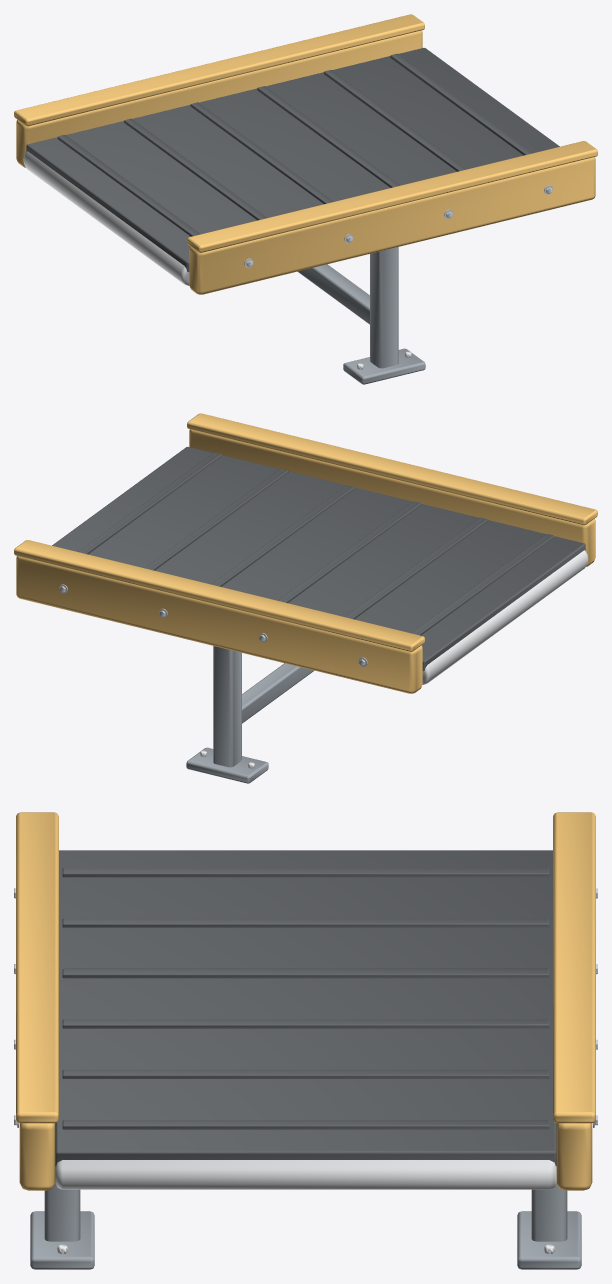
Rendered from cinta_recta.glb.
The picture shows the model from 3 angles, top to bottom: view 1: azimuth 30°, elevation 25°; view 2: azimuth 150°, elevation 25°; view 3: azimuth 270°, elevation 25°; orthographic projection. The views are drawn at different scales.
Parts seen in each view (by area): view 1: banda, rail-1, rail_borde1, rail_borde-1, rail1, pata-1, rodillo-0.48, travesano, taco2, taco1, taco4, taco5 (+3 smaller); view 2: banda, rail1, rail_borde-1, rail_borde1, rail-1, pata1, rodillo-0.48, travesano, taco2, taco1, taco4, taco5 (+3 smaller); view 3: banda, rodillo0.48, rail_borde-1, rail_borde1, taco2, taco4, taco0, taco1, taco3, taco5, pie-1, pie1 (+4 smaller).
Part boxes in pixels (x1,y1,x2,y2): banda: (26,48,559,271); rail-1: (189,157,595,294); rail_borde1: (14,14,424,126); rail_borde-1: (187,141,597,252); rail1: (16,30,422,167); pata-1: (370,247,398,368); rodillo-0.48: (23,151,189,285); travesano: (297,264,369,324); taco2: (190,102,333,204); taco1: (124,118,266,220); taco4: (323,70,466,171); taco5: (390,53,533,155); banda: (52,447,585,671); rail1: (16,556,422,693); rail_borde-1: (187,413,597,525); rail_borde1: (14,540,424,651); rail-1: (189,429,595,566); pata1: (213,646,241,767); rodillo-0.48: (422,550,588,684); travesano: (242,663,314,723); taco2: (278,501,421,603); taco1: (345,517,487,619); taco4: (145,469,288,570); taco5: (78,452,221,554); banda: (55,850,556,1165); rodillo0.48: (55,1160,556,1189); rail_borde-1: (16,812,58,1123); rail_borde1: (553,812,595,1123); taco2: (62,968,549,978); taco4: (62,1069,549,1078); taco0: (62,868,549,877); taco1: (62,918,549,927); taco3: (62,1019,549,1028); taco5: (62,1120,549,1129); pie-1: (30,1211,94,1269); pie1: (517,1211,581,1269).
Size of the model in its own units: 1.02 by 0.439 by 0.8156.
